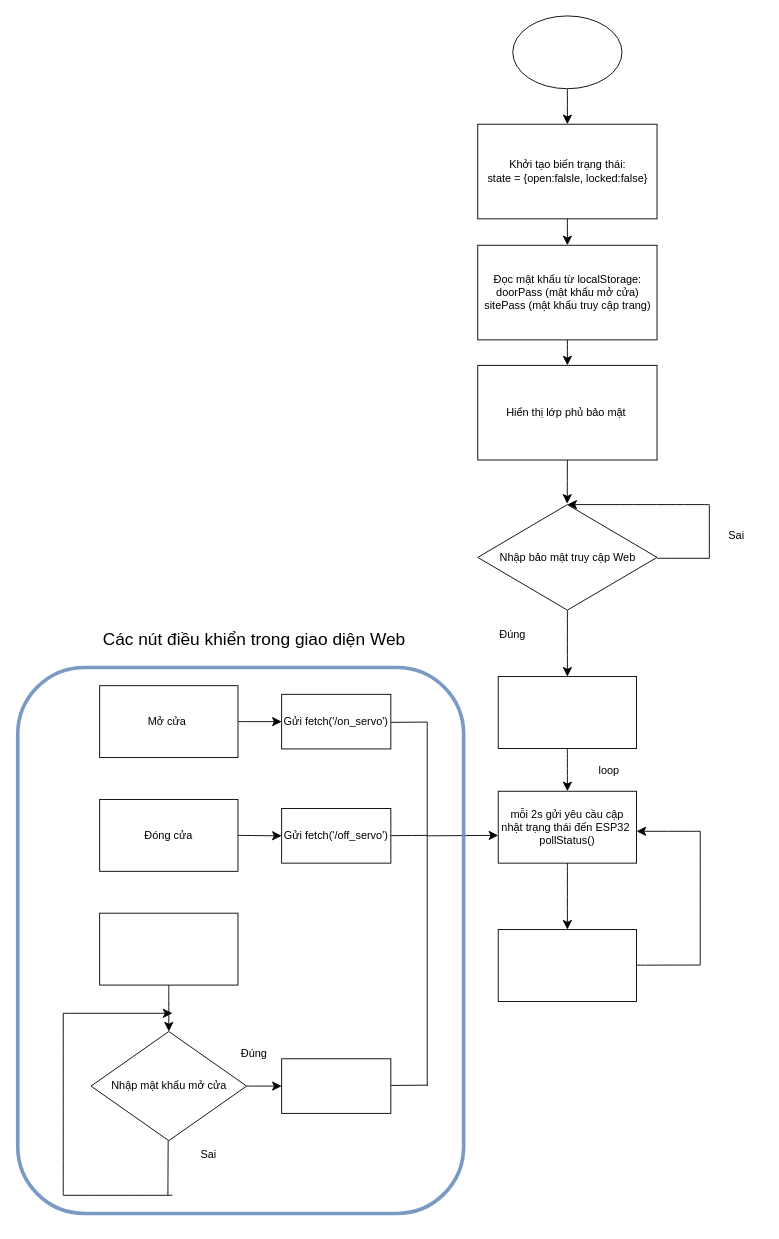
Some shapes in this 779 by 1239 pixel diagram are drawn without their labels. Here are the shapes that lost their labels. From the top down, the centre of each, then its label:
point 567,52: Start
point 567,712: Khởi động giao diện Web
point 168,948: Mở khóa
point 567,965: Cập nhật trạng thái và hiển thị lên Nhật ký hoạt động
point 336,1085: Gọi doOpen()
